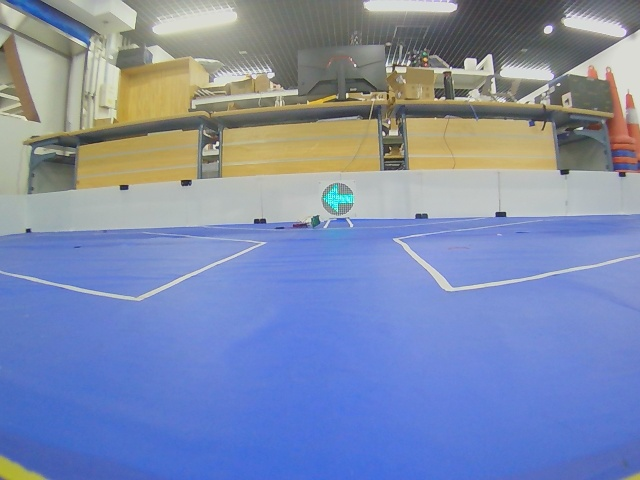left_green: (322, 183, 354, 215)
